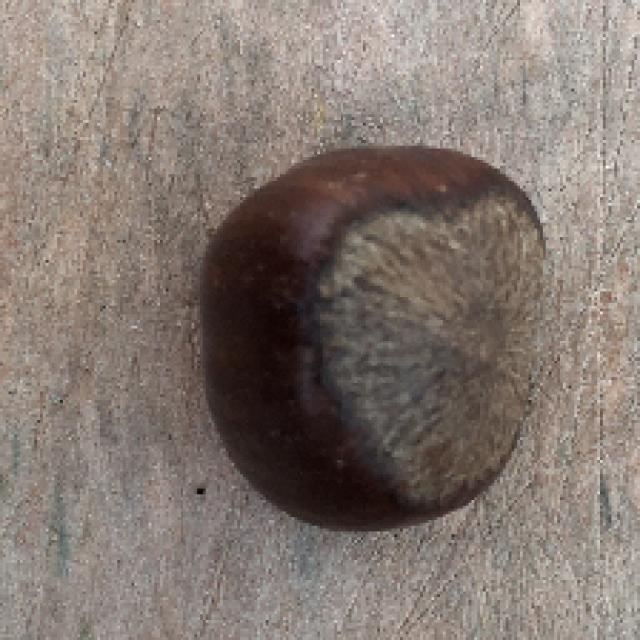damagedHazelnut: (207, 146, 546, 534)
